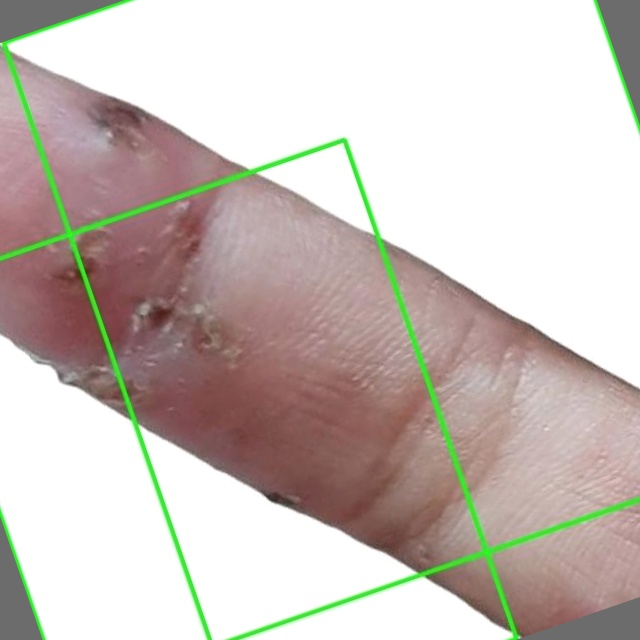Scabies: (3, 0, 639, 639), (0, 139, 516, 639)
